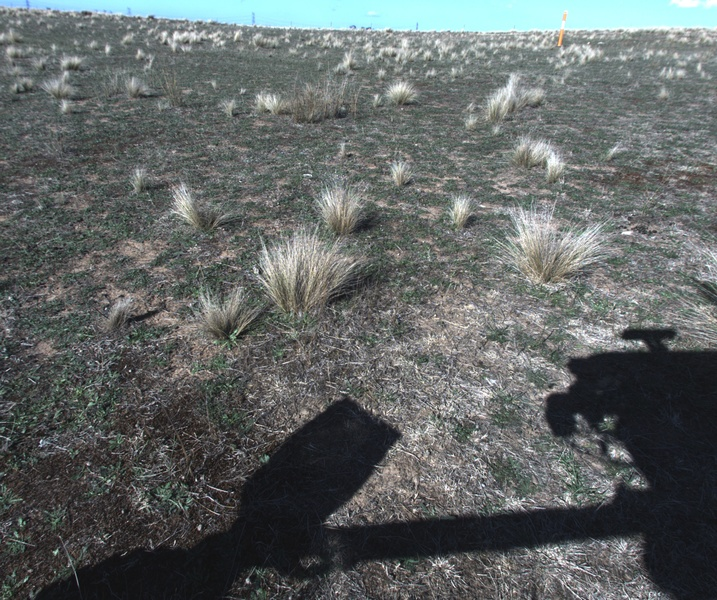st: (266, 241, 349, 321), (503, 212, 590, 287), (200, 283, 250, 346), (170, 186, 227, 230), (320, 182, 360, 233), (104, 296, 135, 340), (486, 79, 519, 118), (443, 191, 476, 228), (511, 140, 547, 171), (124, 75, 153, 104), (252, 91, 282, 117), (390, 153, 410, 189), (45, 78, 75, 101), (129, 162, 147, 200), (516, 87, 547, 109), (387, 85, 419, 105), (8, 77, 35, 99), (338, 49, 356, 76), (460, 105, 479, 130), (133, 44, 151, 69), (605, 140, 622, 166), (543, 159, 563, 181), (58, 54, 84, 69), (656, 63, 674, 82), (656, 81, 671, 102), (366, 91, 384, 108), (666, 68, 686, 83), (57, 93, 67, 121), (224, 99, 237, 118), (449, 63, 465, 78), (37, 54, 49, 73), (7, 46, 20, 60), (424, 69, 437, 79)
